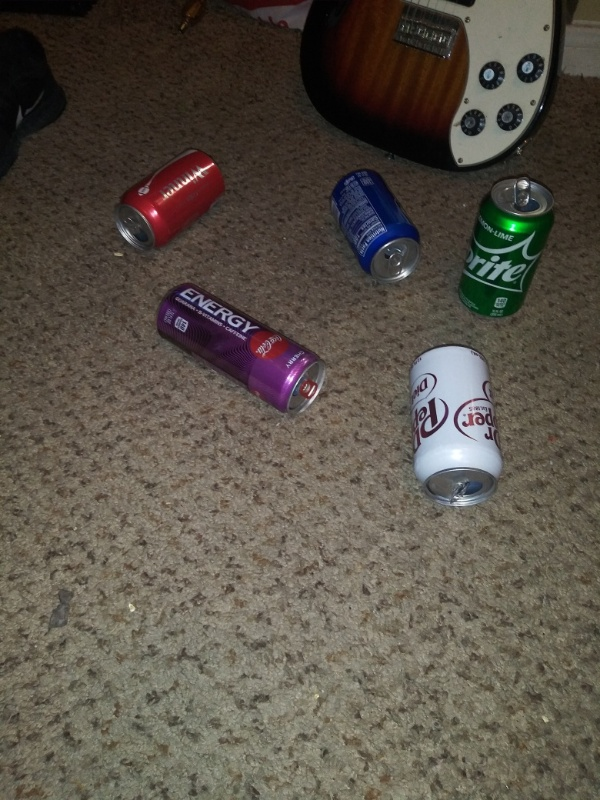can: (154, 281, 330, 417), (408, 342, 508, 505), (454, 173, 558, 322), (111, 144, 229, 257), (325, 167, 425, 286)
